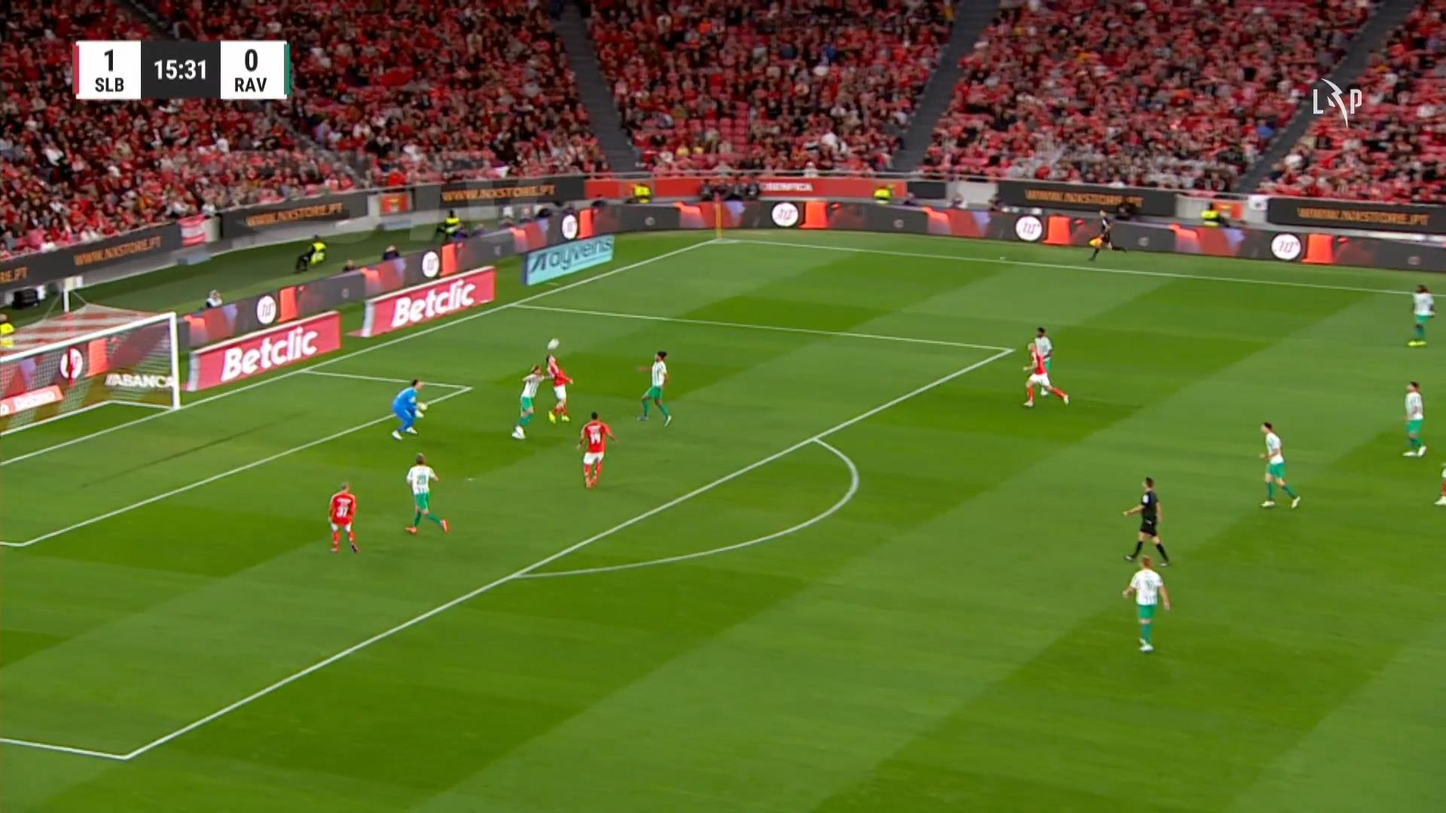ball: (547, 338, 559, 349)
goalkeeper: (389, 377, 427, 440)
player: (1121, 556, 1170, 652), (1021, 325, 1069, 408), (404, 452, 450, 534), (1258, 421, 1301, 508), (575, 410, 617, 489), (635, 350, 673, 427), (510, 363, 545, 439), (327, 481, 359, 553), (545, 352, 573, 423), (1402, 380, 1426, 457), (1407, 283, 1435, 346), (1030, 326, 1054, 397), (1433, 461, 1445, 505)
referee: (1121, 475, 1170, 566), (1087, 208, 1126, 261)
